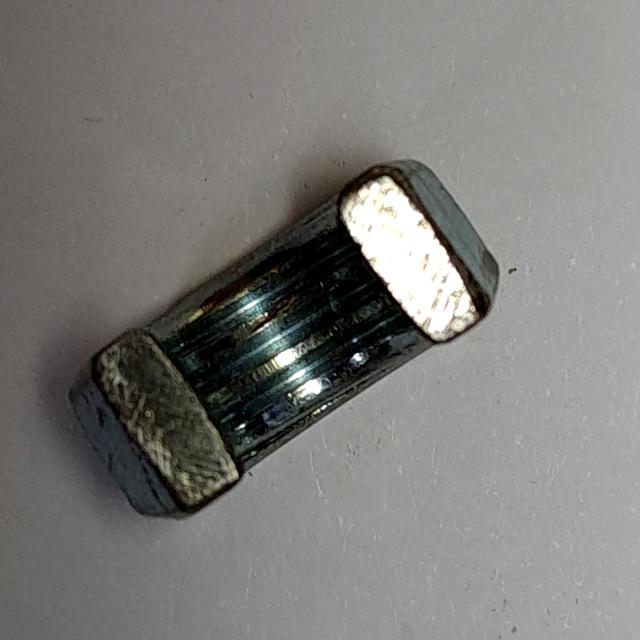Side-Fracture: (57, 147, 508, 531)
